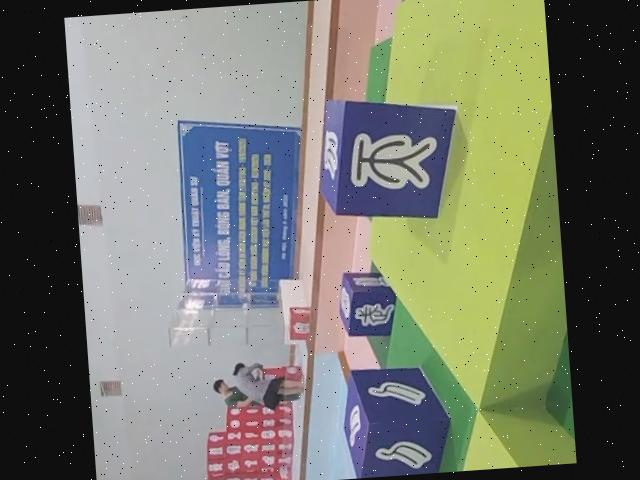R2 Fake Blue: (315, 86, 468, 223), (336, 265, 400, 336)
R2 Real Blue: (339, 363, 454, 479)
